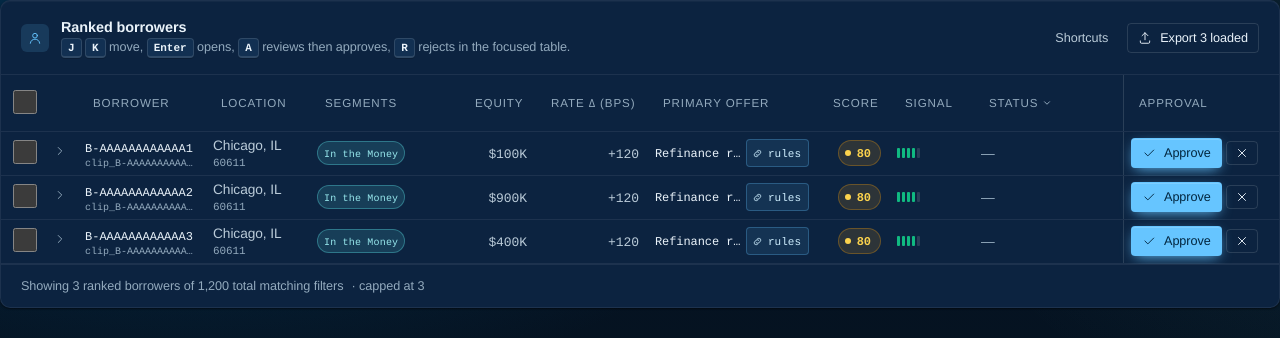
LeadTable sort-scope disclosure › "Reset to rank" restores the server rank order and clears the claim
The image size is (1280, 338).
Click the button with aria-label "Sort by Equity". click: coordinates (499, 103)
box: [475, 91, 524, 115]
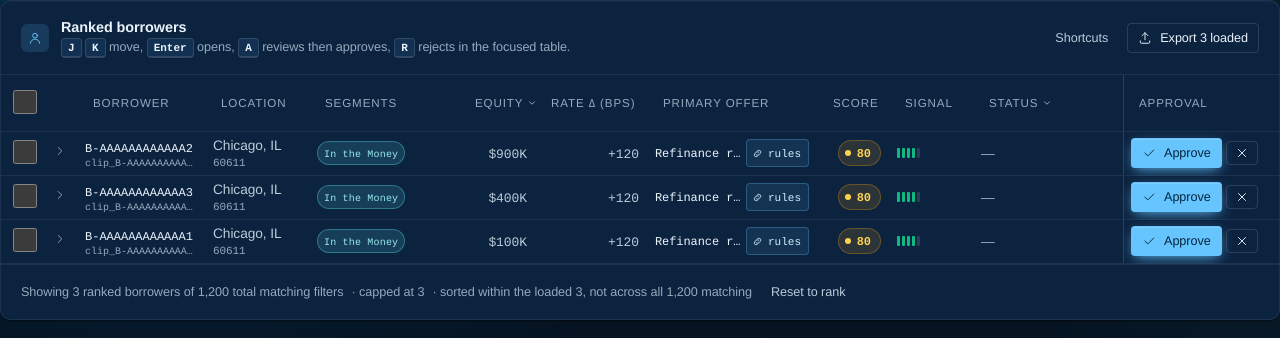
Click the button with aria-label "Sort by Equity". click: coordinates (506, 103)
box: [475, 91, 538, 115]
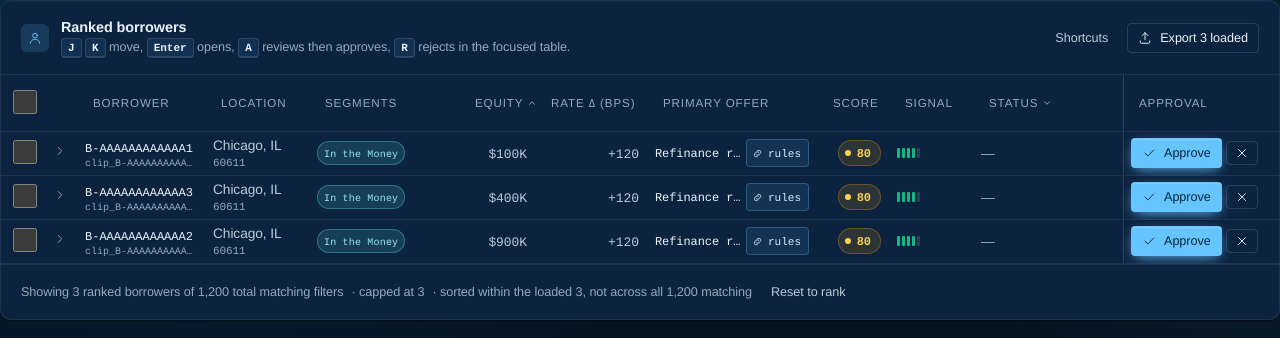
Click the button with test id "lead-sort-reset". click: coordinates (808, 292)
box: [760, 277, 856, 307]
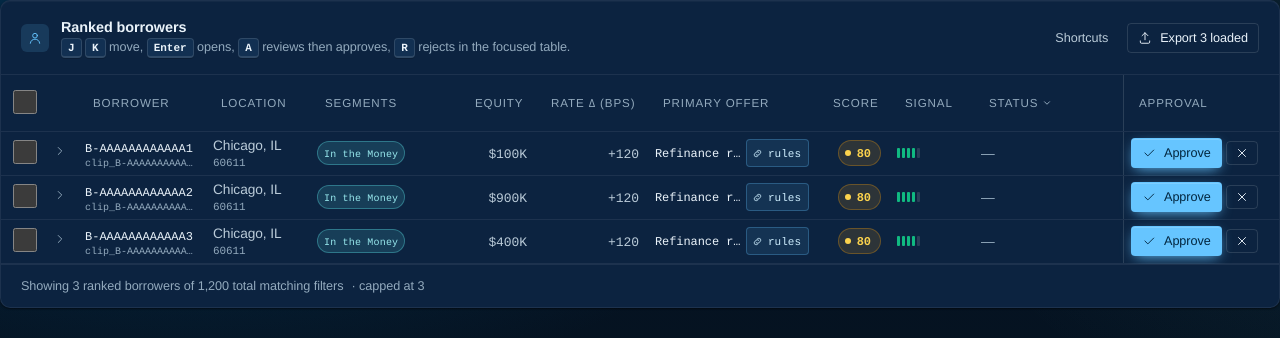
expect the text with test id "lead-sort-scope" is gone: met
expect the button with test id "lead-sort-reset" is gone: met
